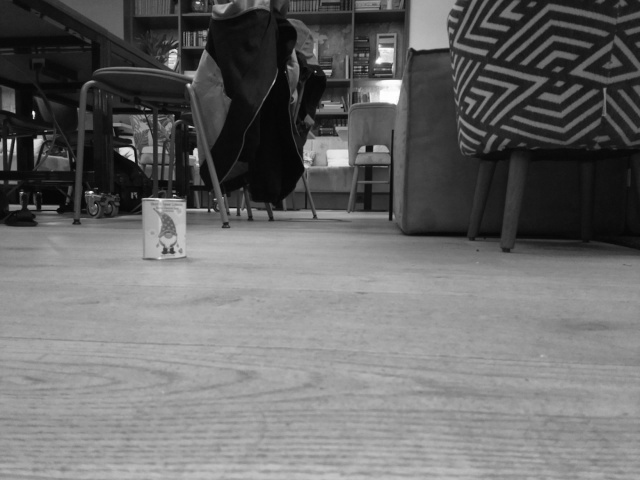gnome: (149, 206, 184, 254)
